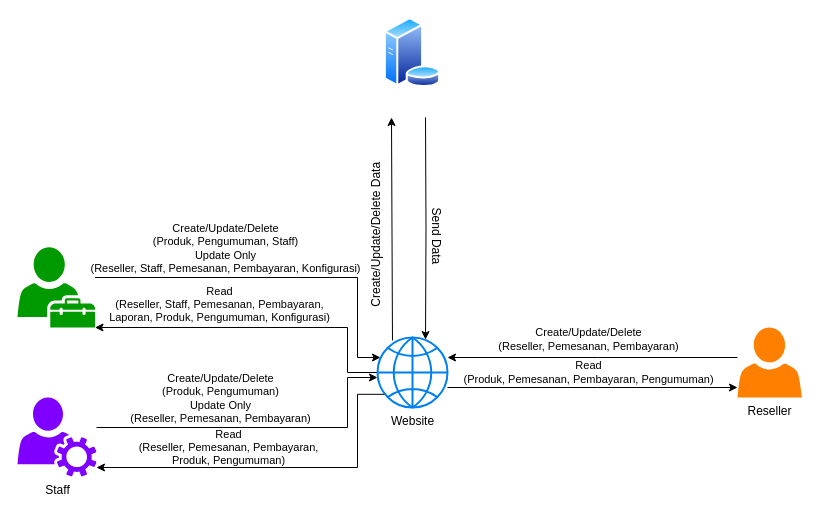
This 819x514 diagram has some shape labels left out. Here are the shapes that lost their labels. From the top down, the centre of each, then its label:
At point 412,52: "Database".
At point 55,287: "Admin".
